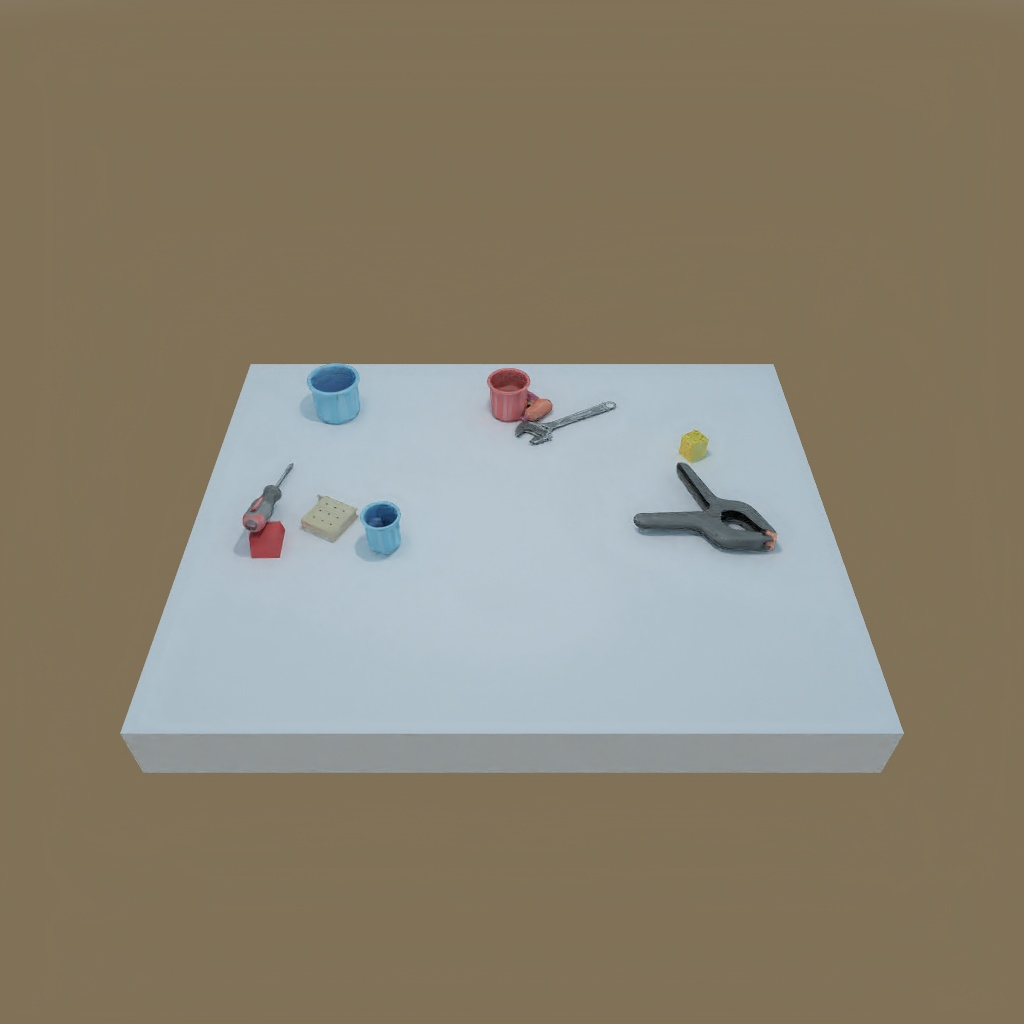nine_hole_peg_test: (298, 491, 356, 544)
